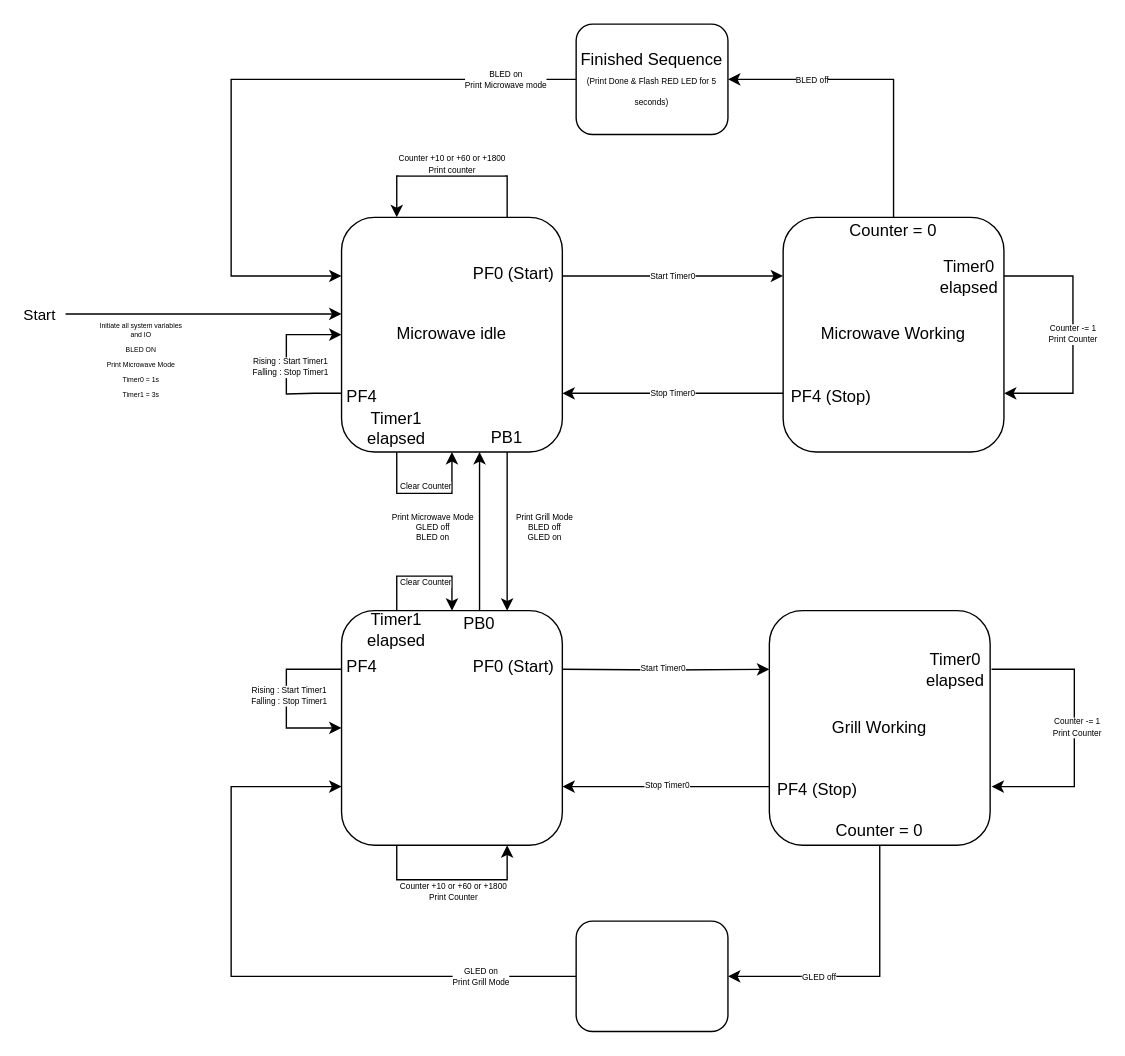
Image size: 1125x1056. Some labels were removed from this diagram. Here are the shapes that lost their labels. From the top down, the box of each, then its label:
(340, 609, 562, 845): Grill idle
(575, 920, 728, 1032): Finished Sequence (Print Done & Flash RED LED for 5 seconds )
